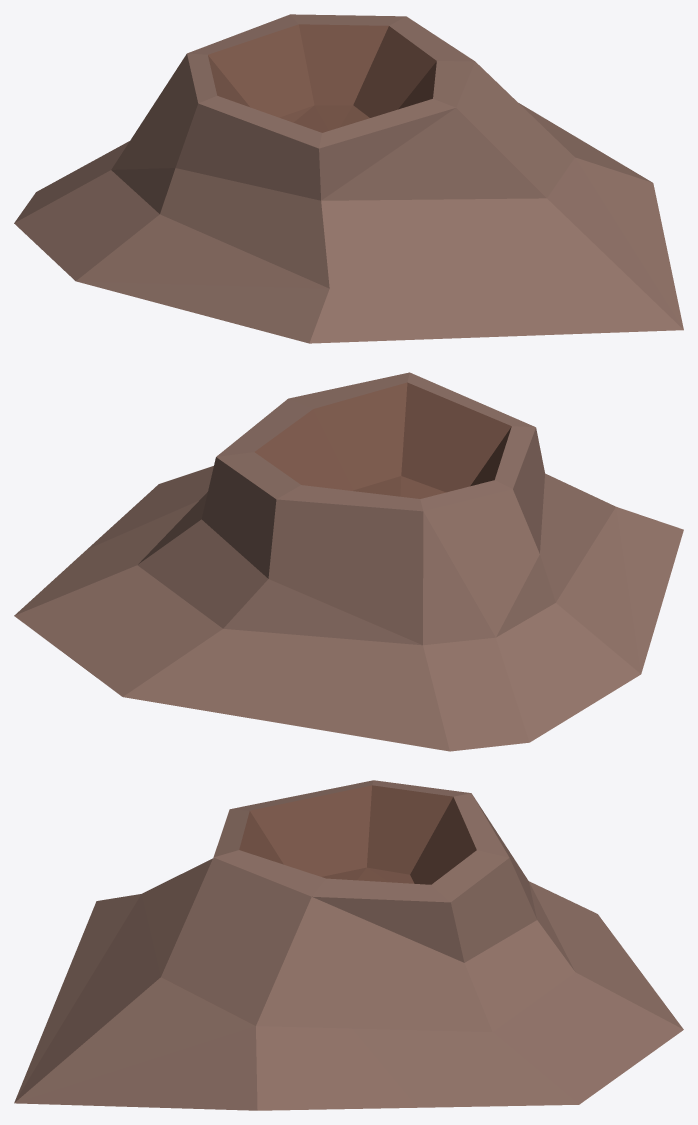
The model's file is Hill_027.fbx.
3 views of the same model, one above another, from view 1: azimuth 30°, elevation 25°; view 2: azimuth 150°, elevation 25°; view 3: azimuth 270°, elevation 25° (orthographic). The views are drawn at different scales.
Parts seen in each view (by area): view 1: Hill_027; view 2: Hill_027; view 3: Hill_027.
Part boxes in pixels (box(x1,y1,x2,y2)): Hill_027: box(14, 14, 683, 343); Hill_027: box(14, 372, 683, 751); Hill_027: box(14, 780, 683, 1110).
Bounding box in the file's own units: 110 × 122 × 37.05.
Materials: 1 (1 with a texture image).
